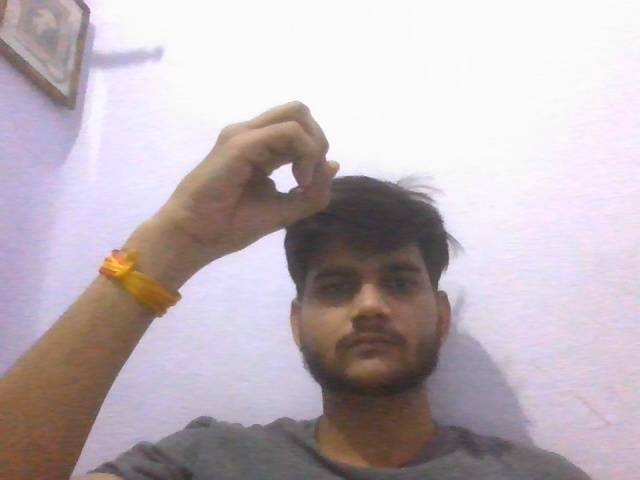no: (135, 86, 361, 254)
